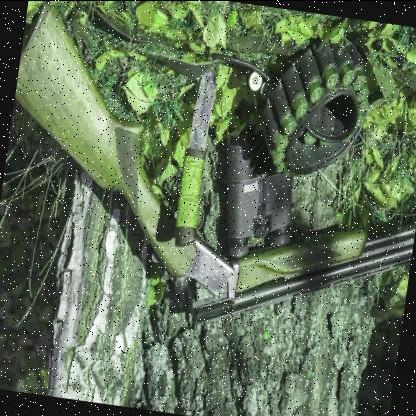rifle: (0, 4, 416, 346)
